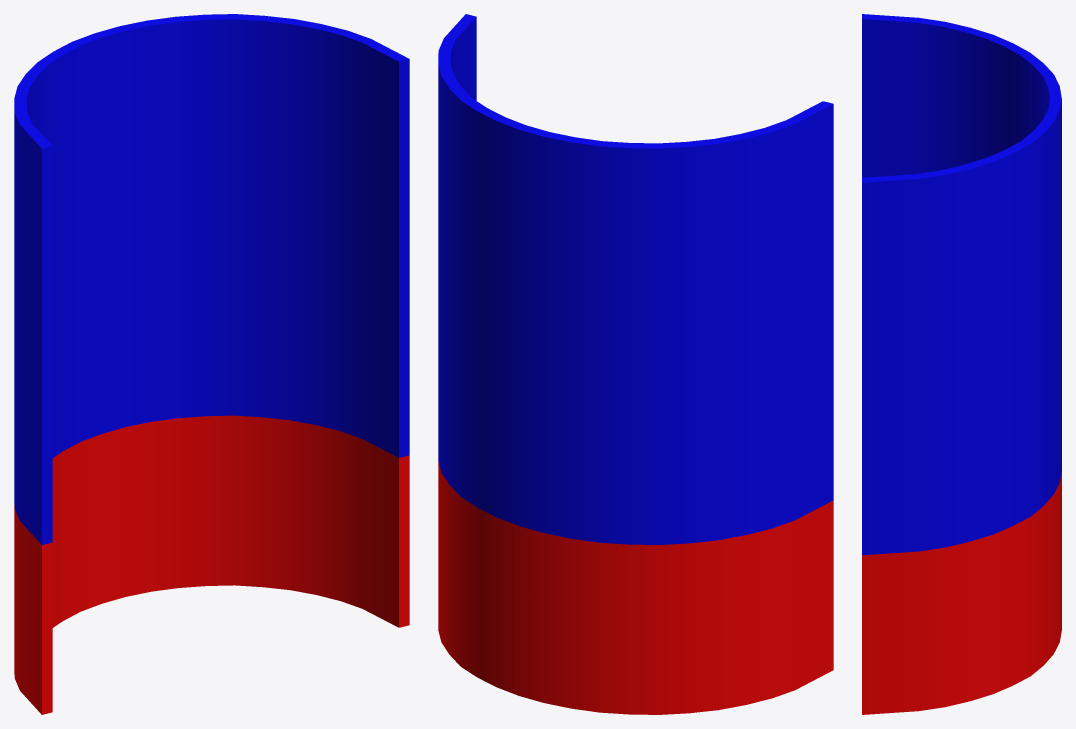
The picture shows the model from 3 angles, left to right: view 1: azimuth 30°, elevation 25°; view 2: azimuth 150°, elevation 25°; view 3: azimuth 270°, elevation 25°; orthographic projection. The views are drawn at different scales.
Visible parts, largest first — view 1: SM_680Lx20Dx1000H_B; view 2: SM_680Lx20Dx1000H_B; view 3: SM_680Lx20Dx1000H_B.
Boxes of the visible parts, <box> form: SM_680Lx20Dx1000H_B: <box>14,14,409,714</box>; SM_680Lx20Dx1000H_B: <box>438,14,833,714</box>; SM_680Lx20Dx1000H_B: <box>862,14,1061,714</box>.
Bounding box in the file's own units: 680 × 1000 × 340.
